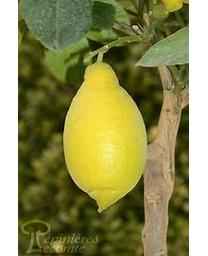lemon: (66, 62, 148, 210)
